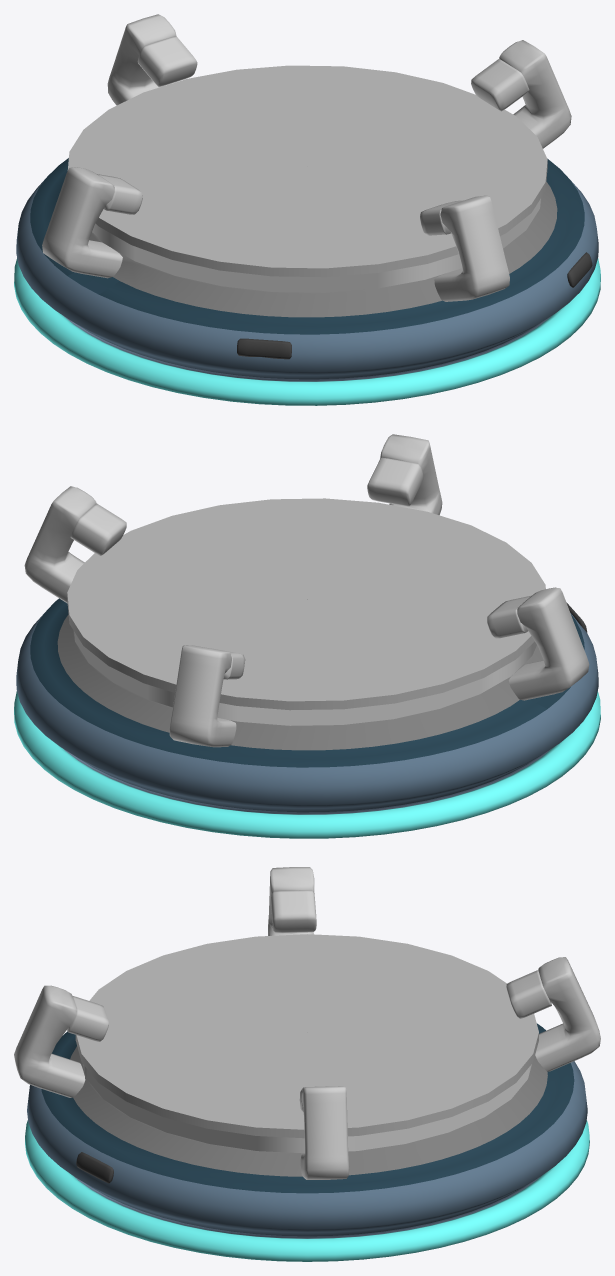
The model's file is Trap_Circlee.fbx.
3 views of the same model, one above another, from view 1: azimuth 30°, elevation 25°; view 2: azimuth 150°, elevation 25°; view 3: azimuth 270°, elevation 25° (orthographic). The views are drawn at different scales.
Visible parts, largest first — view 1: Trap_Circle, Circle.007, Circle.019, Trap_Circle_Bottom, Circle.018; view 2: Trap_Circle, Circle.007, Circle.019, Trap_Circle_Bottom; view 3: Trap_Circle, Circle.007, Circle.019, Trap_Circle_Bottom, Circle.017.
Part boxes in pixels (x1,y1,x2,y2): Trap_Circle: (67, 65, 547, 277); Circle.007: (14, 158, 600, 405); Circle.019: (42, 14, 571, 301); Trap_Circle_Bottom: (92, 198, 540, 292); Circle.018: (237, 338, 291, 359); Trap_Circle: (67, 498, 545, 710); Circle.007: (14, 598, 600, 838); Circle.019: (24, 434, 589, 747); Trap_Circle_Bottom: (74, 631, 536, 725); Trap_Circle: (75, 934, 538, 1138); Circle.007: (25, 1023, 589, 1261); Circle.019: (14, 867, 600, 1179); Trap_Circle_Bottom: (83, 1064, 531, 1153); Circle.017: (76, 1152, 113, 1183).
Size of the model in its own units: 323 by 102 by 322.
